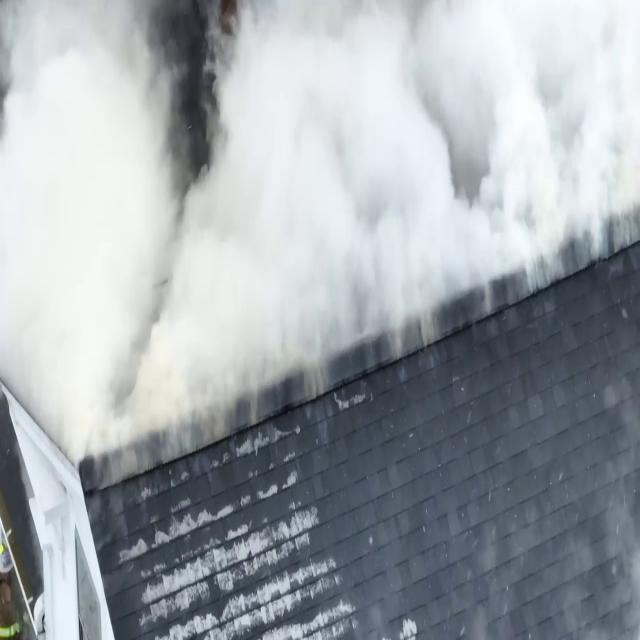Smoke: (1, 0, 640, 439)
